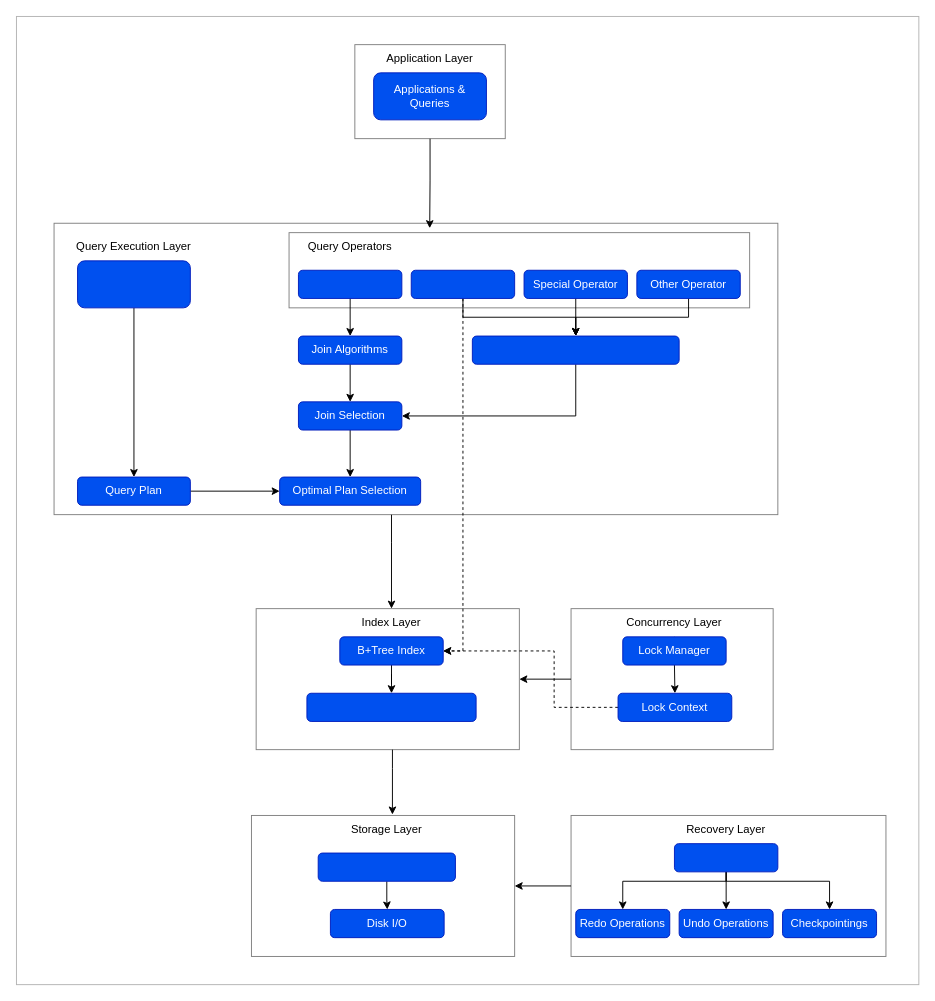
The diagram is 935 pixels wide and 1001 high, and some of its shapes have lost their labels. Each missing label, with the centre of its shape:
Access Path Selection: the point at 575,349
Disk Space Manager: the point at 386,866
Index Search & Range Scan: the point at 391,706
Join Operator: the point at 350,283
Query Planning & Optimization: the point at 133,284
Recovery Manager: the point at 726,857
Scan Operator: the point at 462,283
